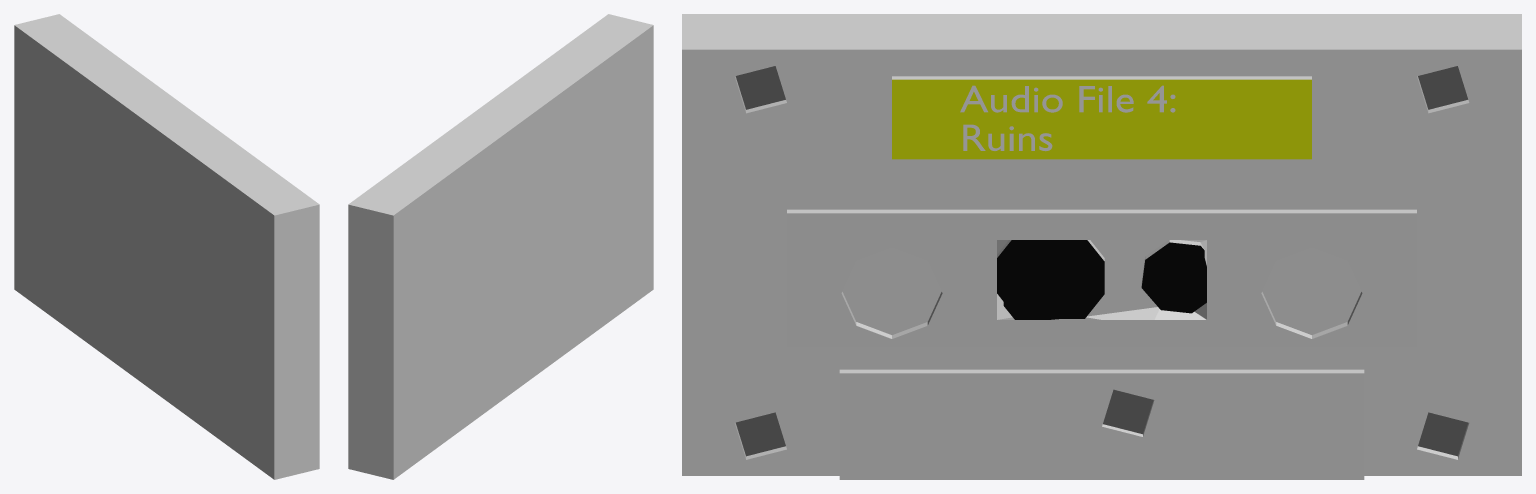
File: Cassette Tape 4.fbx
3 renders of one model, left to right at view 1: azimuth 30°, elevation 25°; view 2: azimuth 150°, elevation 25°; view 3: azimuth 270°, elevation 25°, orthographic. The views are drawn at different scales.
Visible parts, largest first — view 1: Cube; view 2: Cube; view 3: Cube, Text.
Boxes of the visible parts, x1,y1,x2,y2 form: Cube: [14, 14, 319, 479]; Cube: [348, 14, 653, 479]; Cube: [682, 14, 1521, 479]; Text: [960, 85, 1175, 151].
Size of the model in its own units: 65.87 by 331 by 591.
